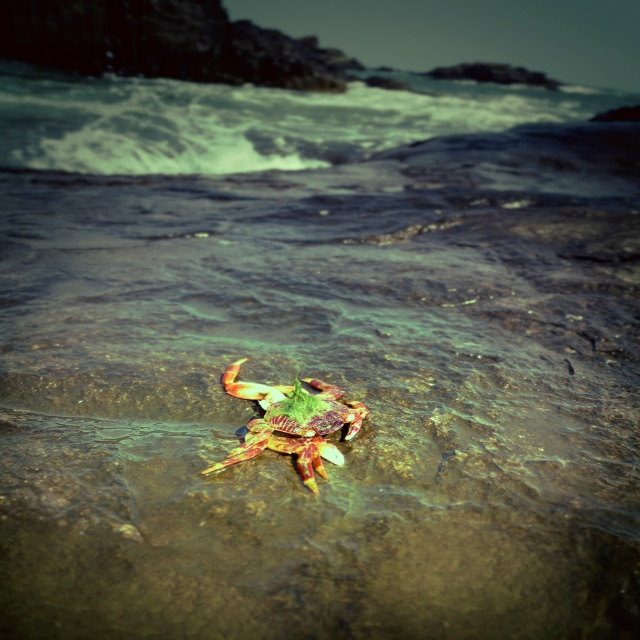Crab: (196, 359, 372, 497)
